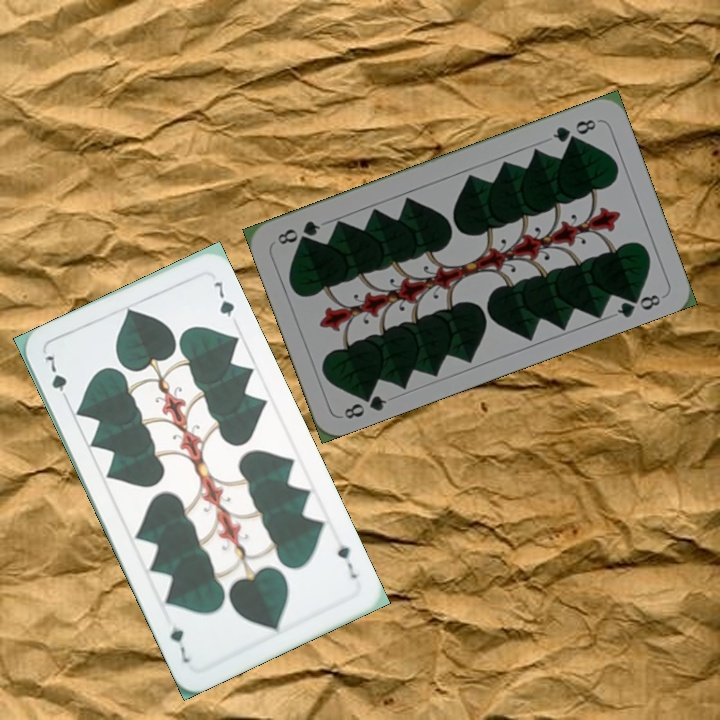G7: (40, 351, 73, 405), (333, 533, 361, 581)
G8: (340, 386, 390, 422), (549, 115, 602, 145)
